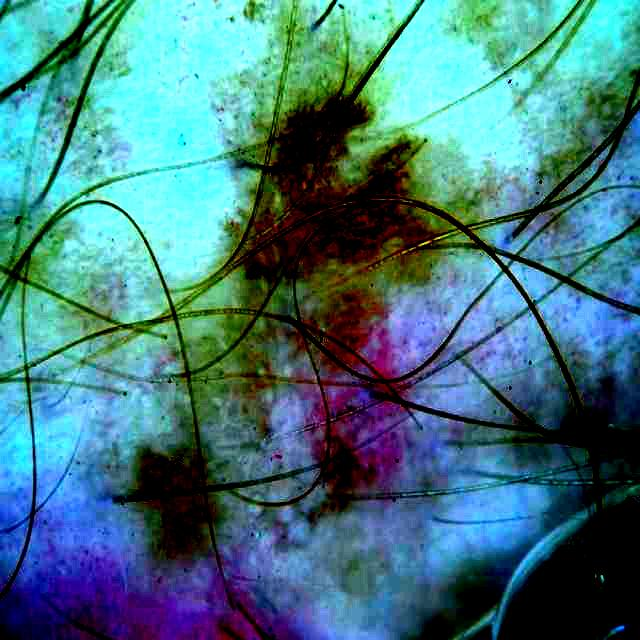AKIEC: (202, 44, 551, 580)
